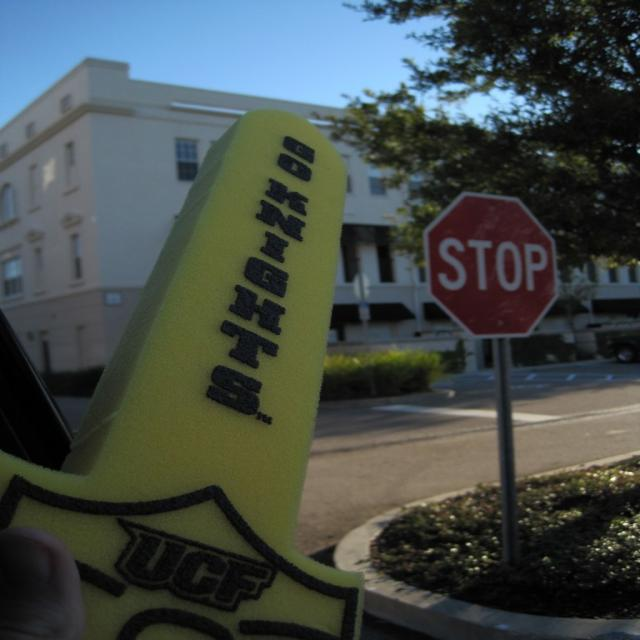Stop-sign: (421, 190, 560, 342)
